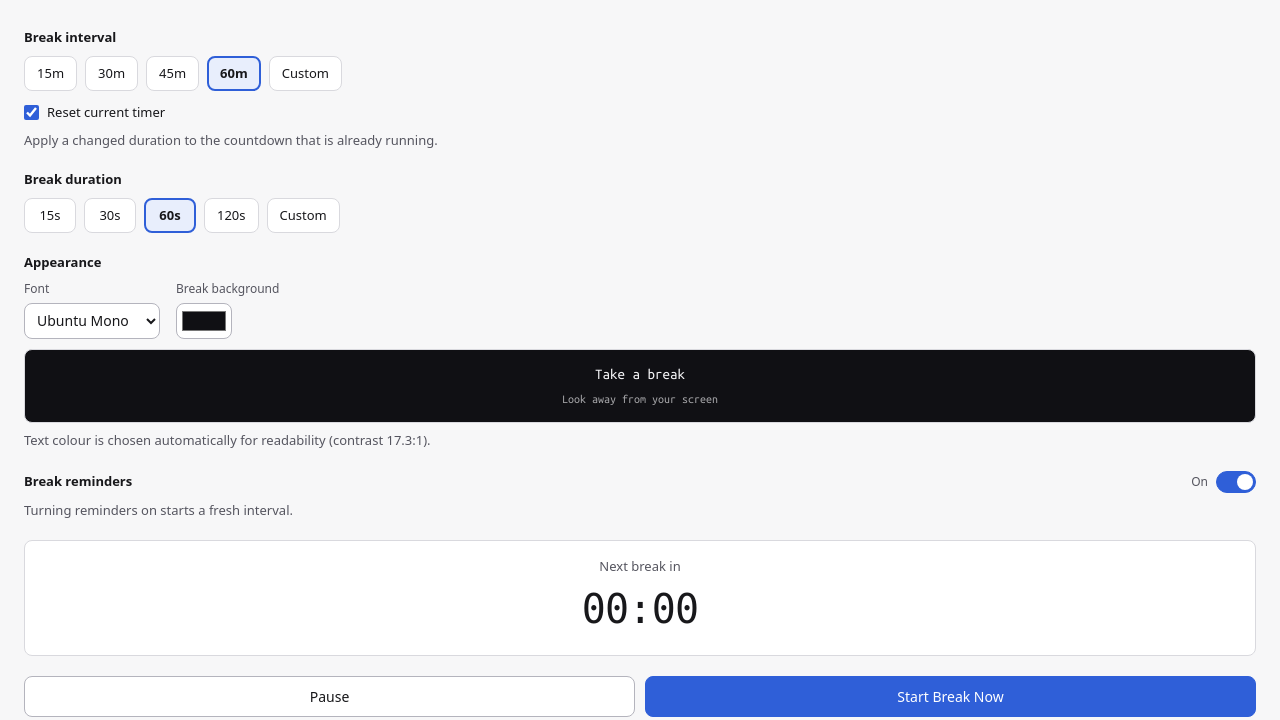
Scenario: controls › offers Pause while running and Resume once paused
The image size is (1280, 720).
Step 1. Click the button "Pause" → (330, 696), box [24,676,635,716]
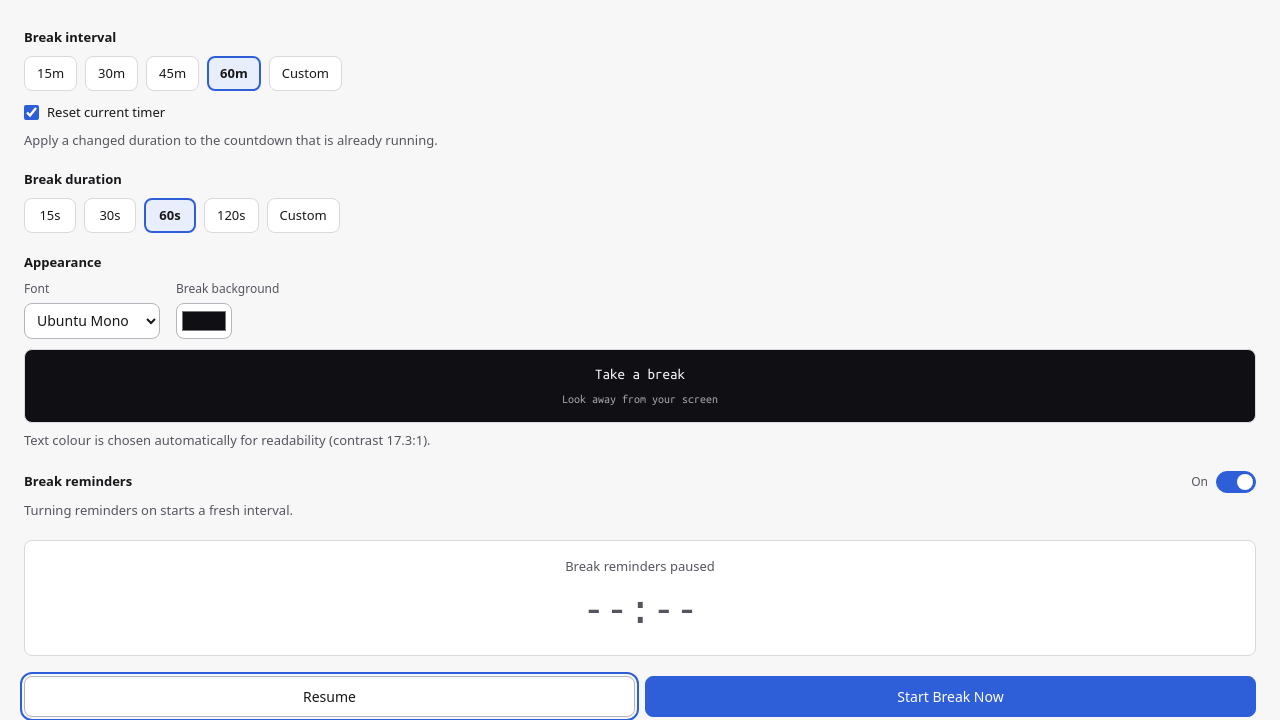
Step 2. Click the button "Resume" → (330, 696), box [24,676,635,716]
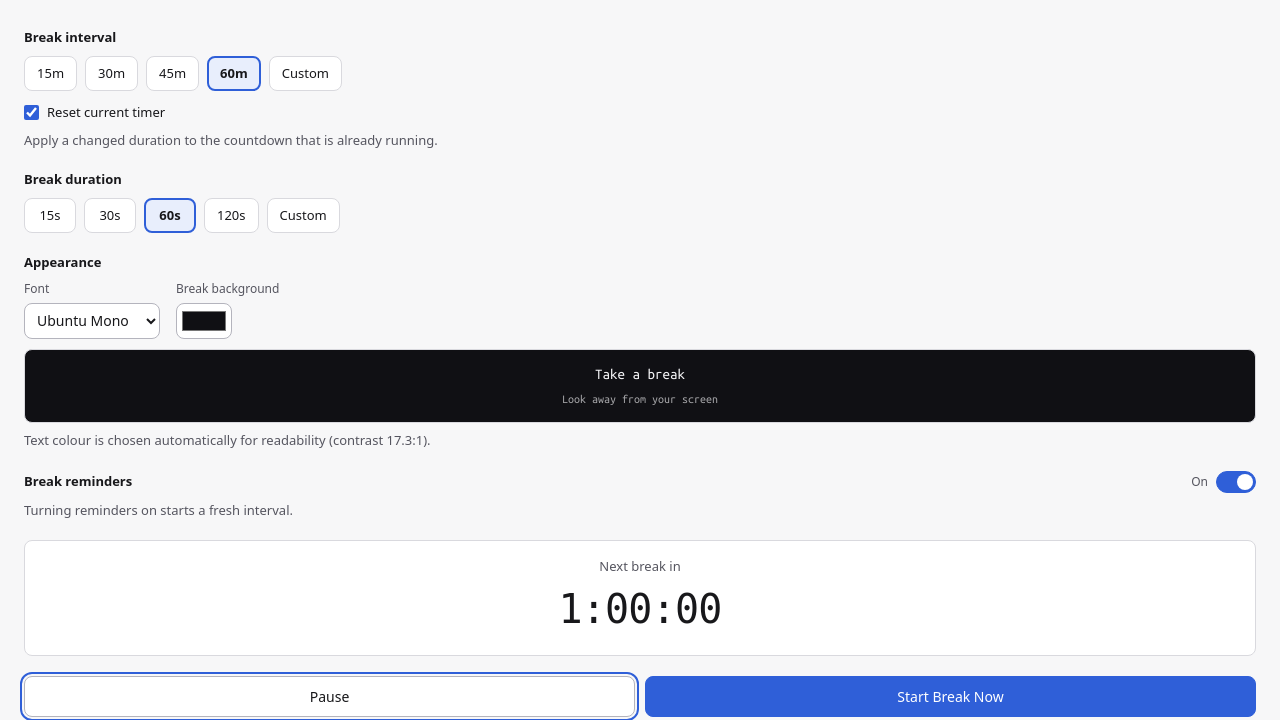
expect the button "Pause" is shown: met, box [24,676,635,716]
